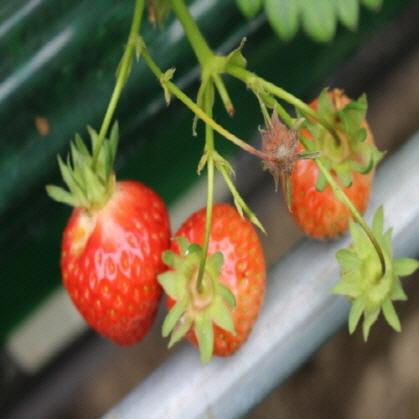Gray Mold: (252, 104, 318, 200)
